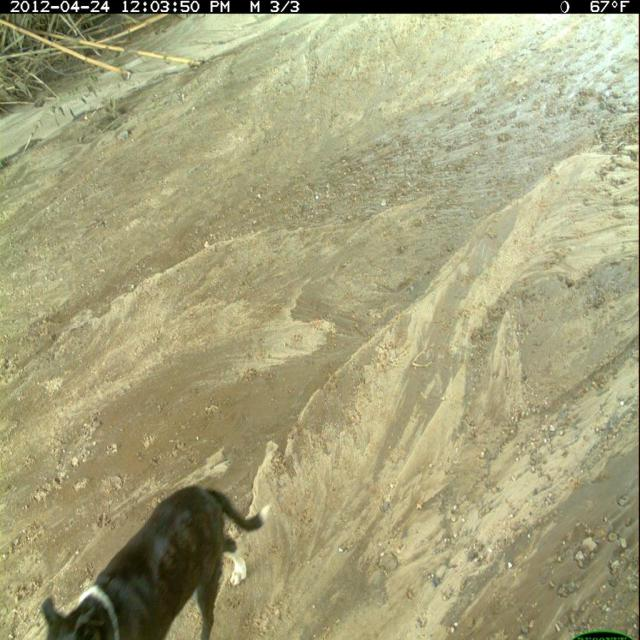dog: (40, 481, 274, 640)
